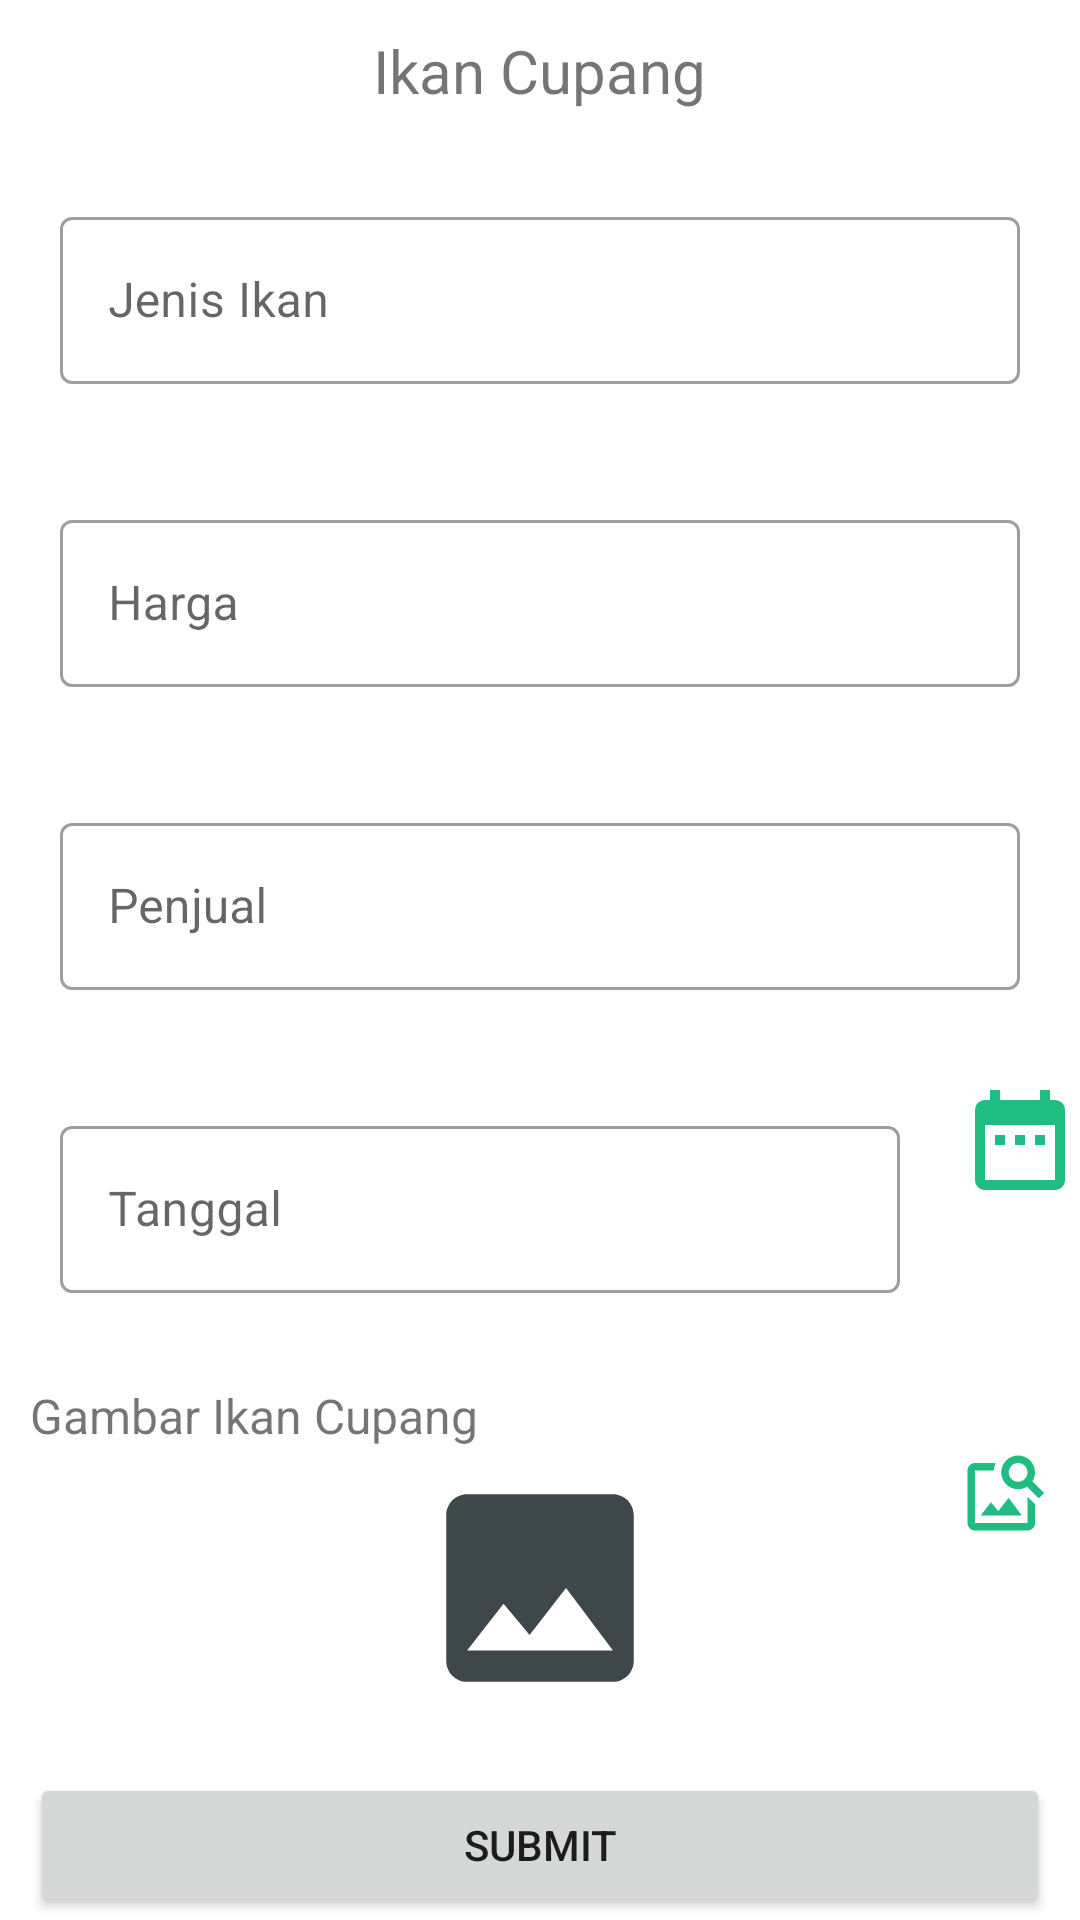

Icon bounding boxes for this 1080w x 1920h phone screenshot, format (x1, y1, x2, y2):
date: (975, 1090, 1065, 1190)
searchimage: (967, 1455, 1044, 1531)
